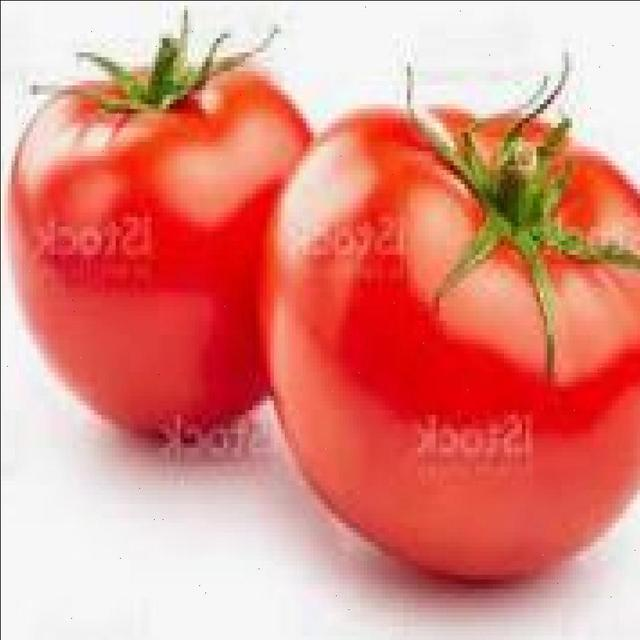Healthy Fruit: (100, 160, 304, 348)
